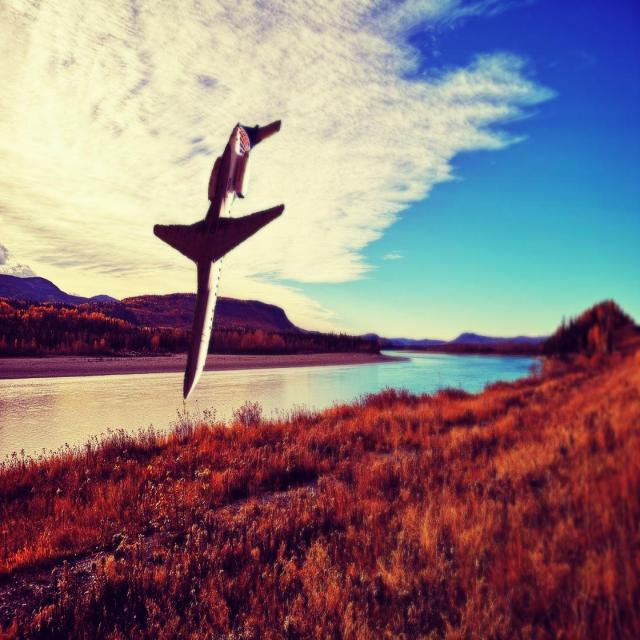airplane: (153, 118, 284, 400)
